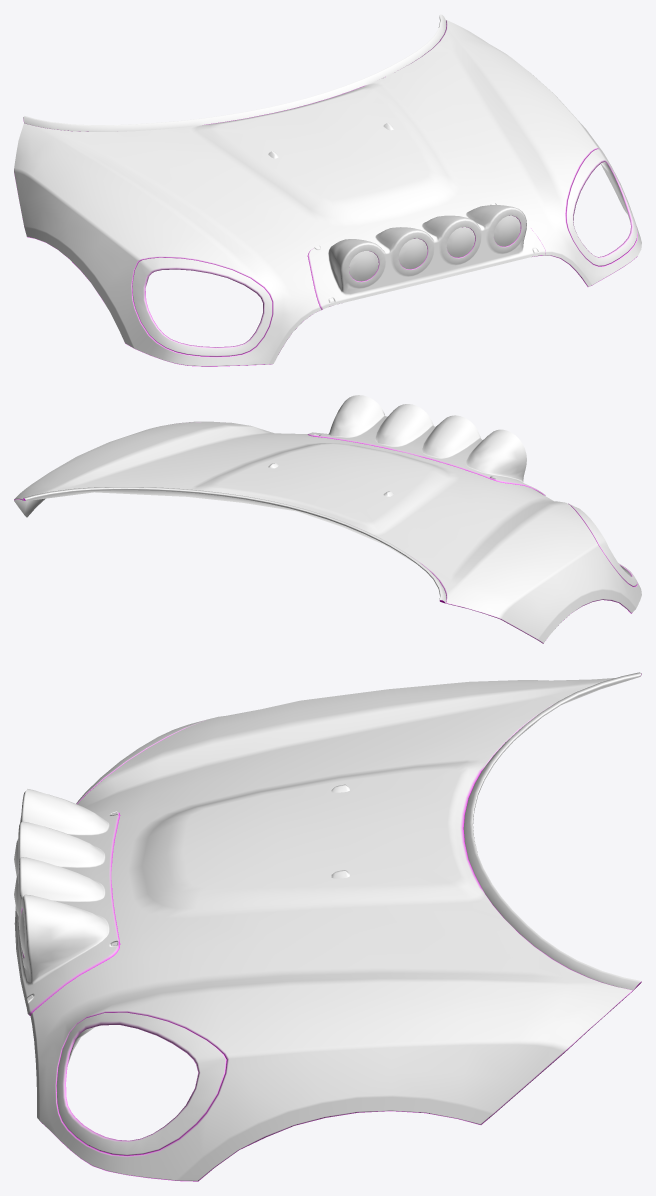
The model's file is Car_Mini_CountrymanJCW_2017_Hood_SetG_AltB.fbx.
3 renders of one model, top to bottom at view 1: azimuth 30°, elevation 25°; view 2: azimuth 150°, elevation 25°; view 3: azimuth 270°, elevation 25°, orthographic. The views are drawn at different scales.
Visible parts, largest first — view 1: Hood 6; view 2: Hood 6; view 3: Hood 6.
Part boxes in pixels (x1=…): Hood 6: x1=14, y1=14, x2=641, y2=366; Hood 6: x1=14, y1=395, x2=641, y2=643; Hood 6: x1=14, y1=672, x2=641, y2=1181.
Bounding box in the file's own units: 1.78 × 0.3896 × 1.23.
